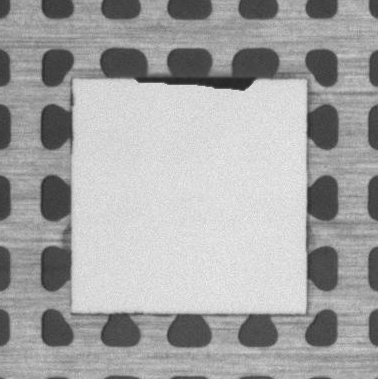DIE_BROKEN: (135, 71, 261, 90)
